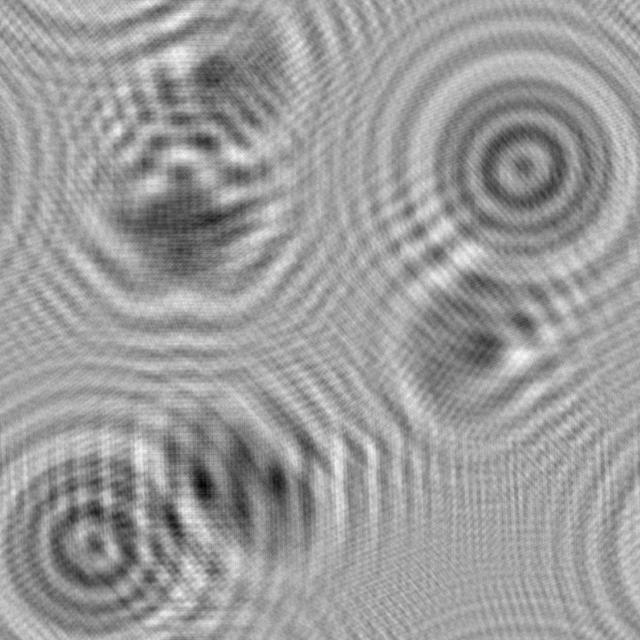K: (33, 75, 334, 340)
L: (334, 208, 640, 473), (73, 0, 350, 183)
N: (117, 356, 373, 599)
O: (373, 28, 640, 317), (0, 408, 234, 640)
